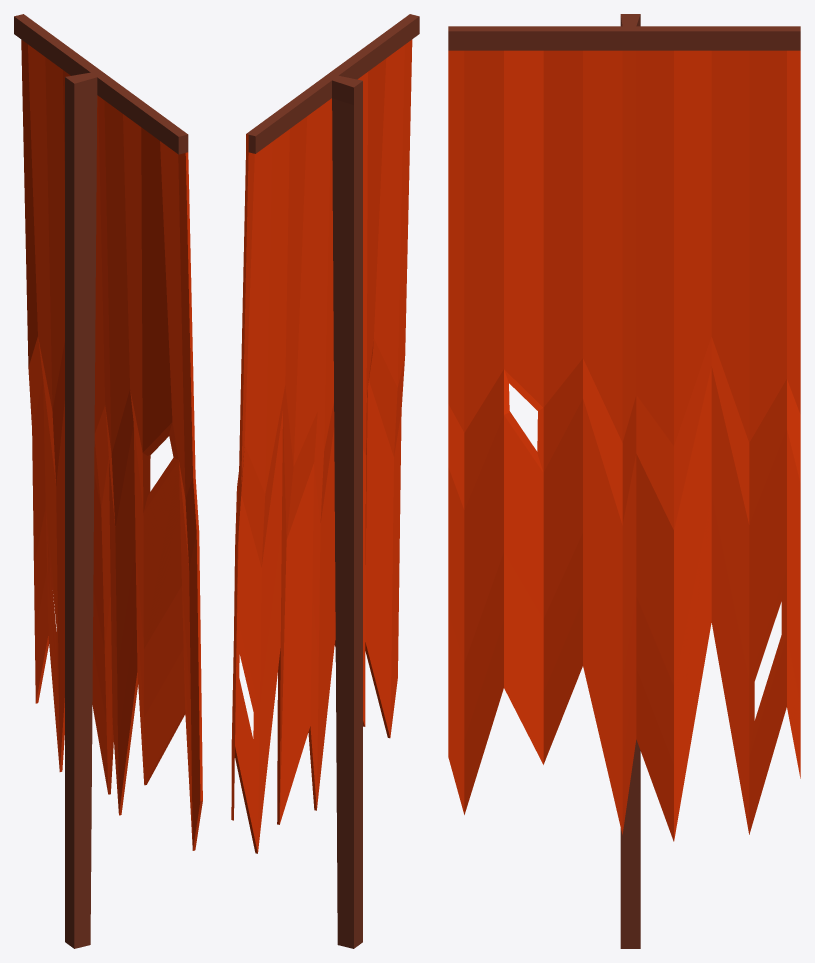
The model's file is red standard.glb.
The picture shows the model from 3 angles, left to right: view 1: azimuth 30°, elevation 25°; view 2: azimuth 150°, elevation 25°; view 3: azimuth 270°, elevation 25°; orthographic projection. The views are drawn at different scales.
Visible parts, largest first — view 1: Cube; view 2: Cube; view 3: Cube.
Boxes of the visible parts, box(x1,y1,x2,y2) form: Cube: box(14, 14, 202, 948); Cube: box(231, 14, 419, 948); Cube: box(448, 14, 800, 948).
Bounding box in the file's own units: 0.9605 × 12.93 × 4.46.
